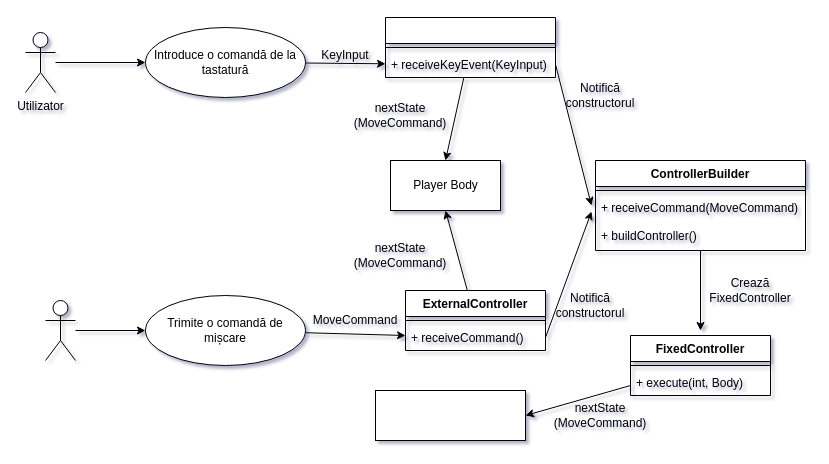
Some shapes in this 829 by 464 pixel diagram are drawn without their labels. Here are the shapes that lost their labels. From the top down, the box of each, then its label:
(384, 16, 556, 78): KeyboardController
(44, 300, 76, 360): Client extern
(374, 390, 526, 440): OldPlayerInstance Body
